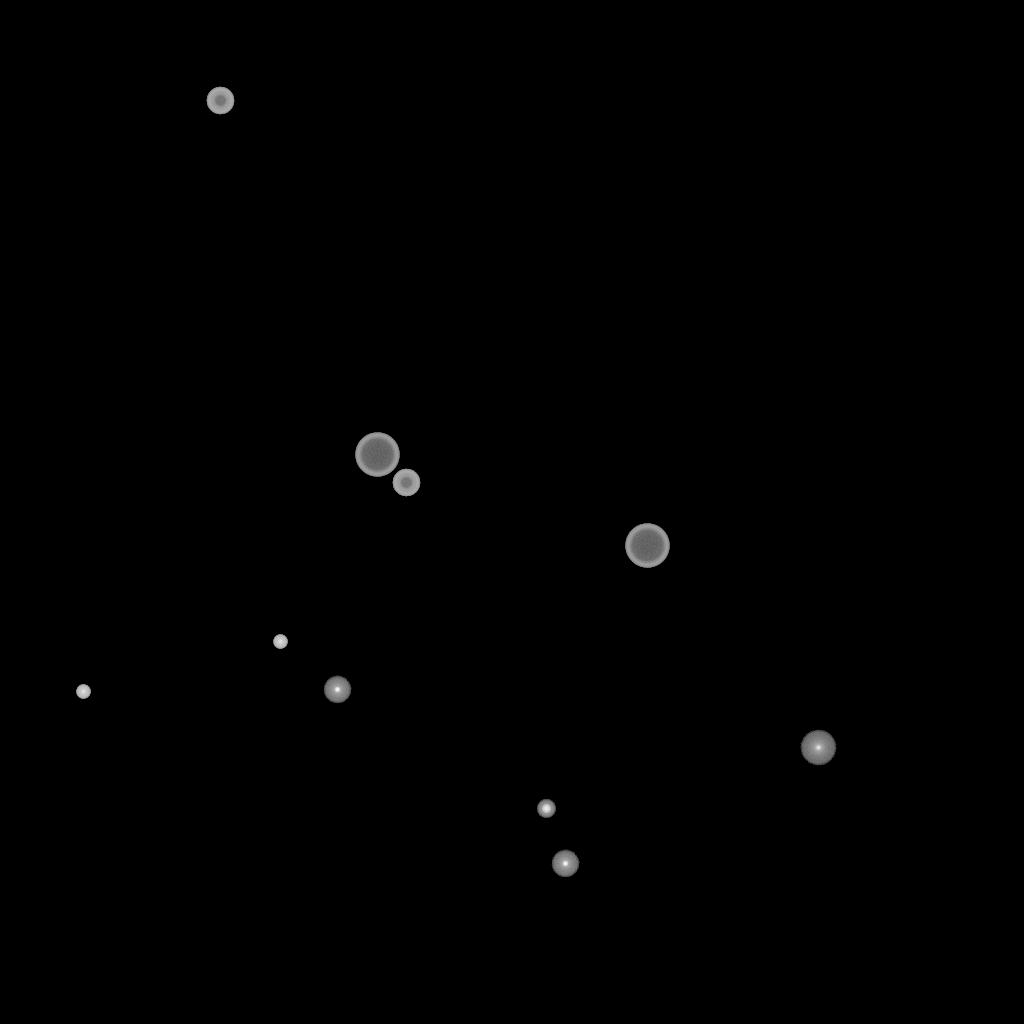depth:-10: (551, 850, 579, 878), (323, 676, 351, 704)
depth:-20: (537, 800, 555, 818)
depth:-30: (273, 635, 287, 649), (76, 685, 90, 699)
depth:-50: (206, 87, 234, 115), (392, 469, 420, 497)
depth:-70: (355, 433, 399, 477), (625, 524, 669, 568)
depth:0: (800, 730, 836, 766)
